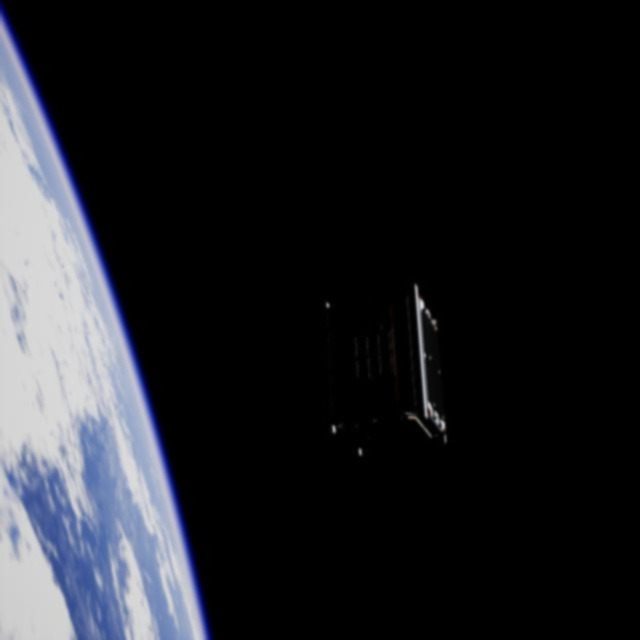satellite: (308, 273, 457, 469)
